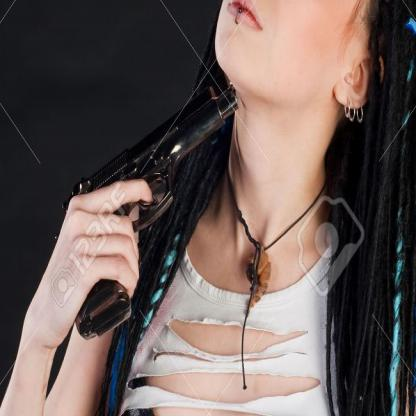gun: (66, 77, 246, 354)
